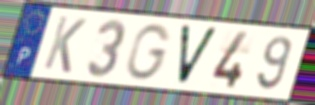3: (85, 17, 128, 80)
4: (209, 29, 250, 90)
9: (255, 35, 293, 92)
G: (124, 22, 174, 82)
K: (41, 14, 89, 76)
V: (176, 23, 221, 88)
